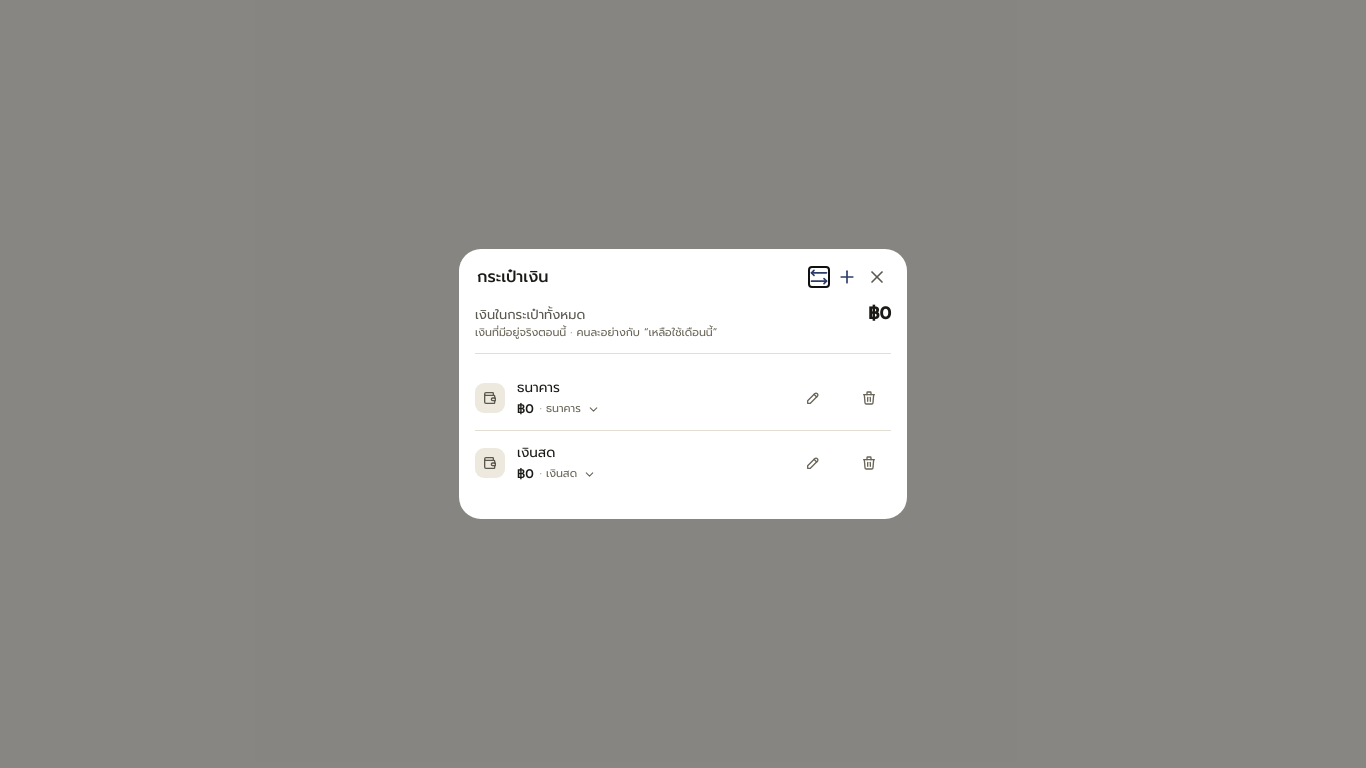
Test: WalletsManager — transfer entry point › opens the transfer sheet when the button is tapped
Click the button named "โอนเงินระหว่างกระเป๋า" at x=819, y=277, box left=809, top=267, right=829, bottom=287
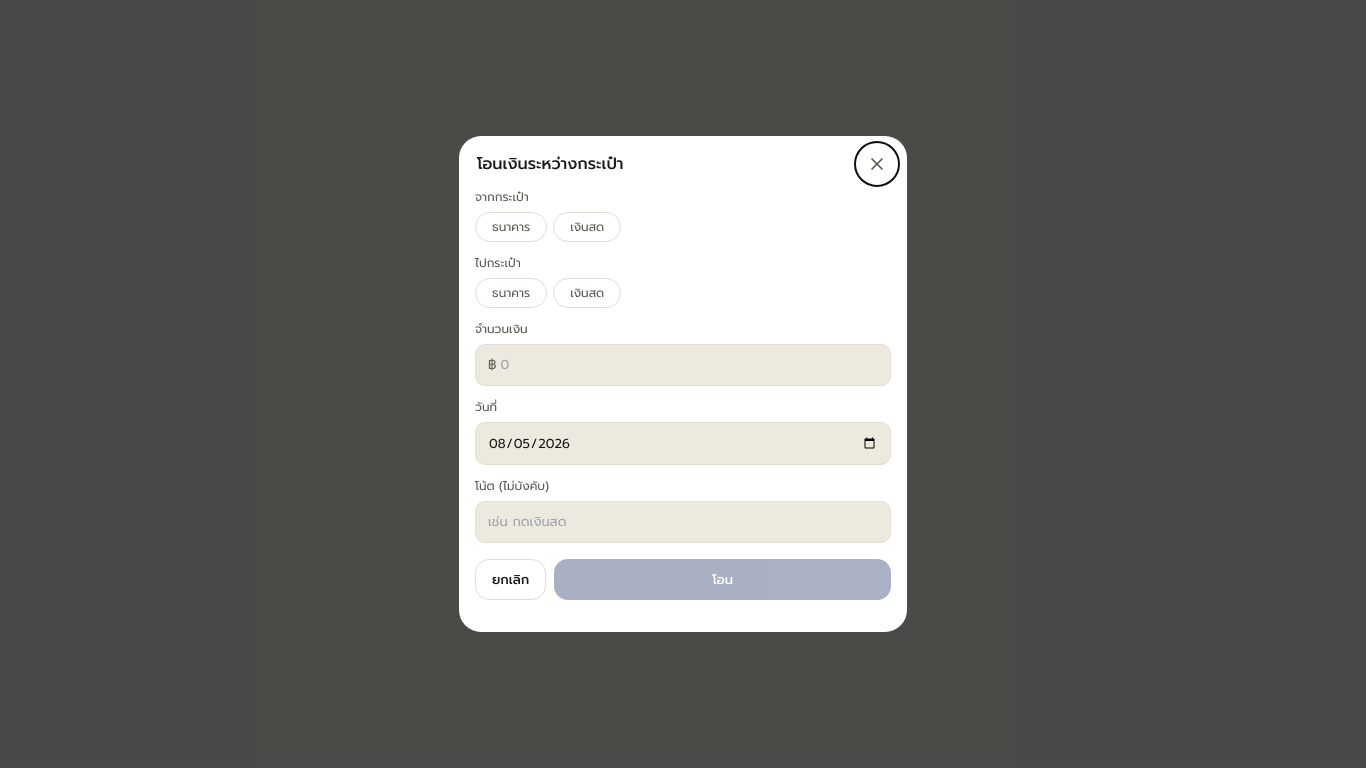
Check: the text "โอนเงินระหว่างกระเป๋า" is shown, box left=477, top=152, right=624, bottom=176
Check: the field labelled "จำนวนเงิน" is shown, box left=500, top=345, right=878, bottom=384
